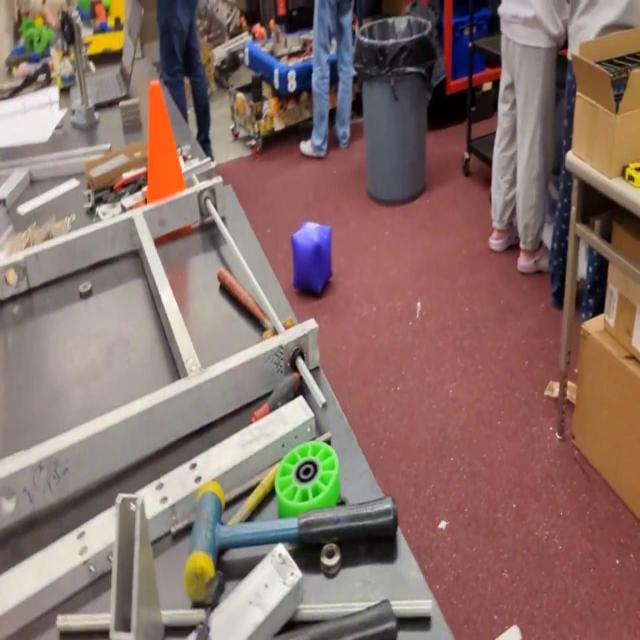frc_cone: (105, 0, 129, 26)
frc_cube: (290, 218, 334, 295)
